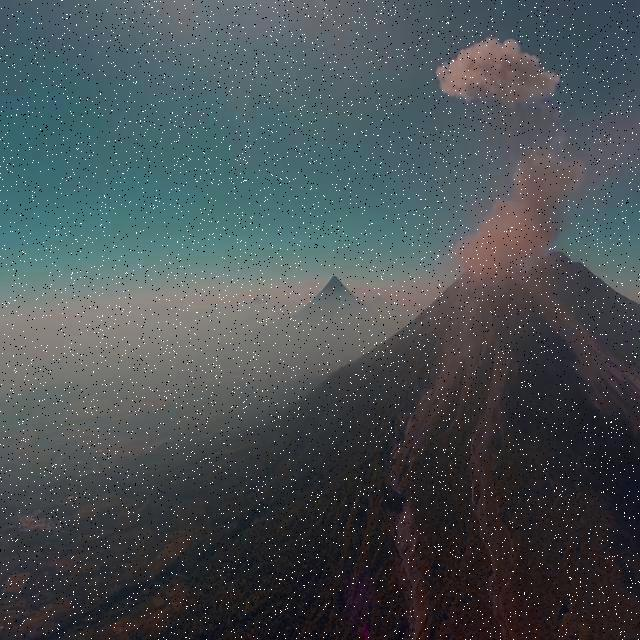Plume: (448, 127, 588, 287), (428, 30, 564, 116)
